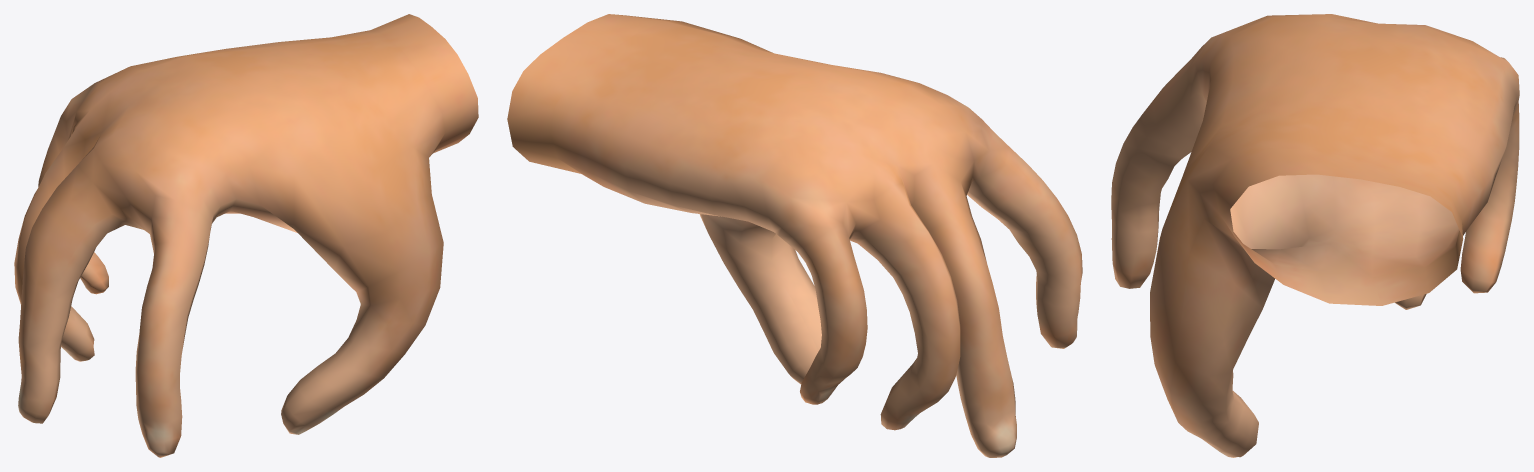
File: H_tripod_large.fbx
The picture shows the model from 3 angles, left to right: view 1: azimuth 30°, elevation 25°; view 2: azimuth 150°, elevation 25°; view 3: azimuth 270°, elevation 25°; orthographic projection. The views are drawn at different scales.
Parts seen in each view (by area): view 1: H_tripod_large; view 2: H_tripod_large; view 3: H_tripod_large.
Part boxes in pixels (x1,y1,x2,y2): H_tripod_large: (14, 14, 478, 457); H_tripod_large: (507, 14, 1082, 457); H_tripod_large: (1111, 14, 1519, 457).
Bounding box in the file's own units: 15.44 × 11.56 × 10.85.
1 material, 1 textured.
